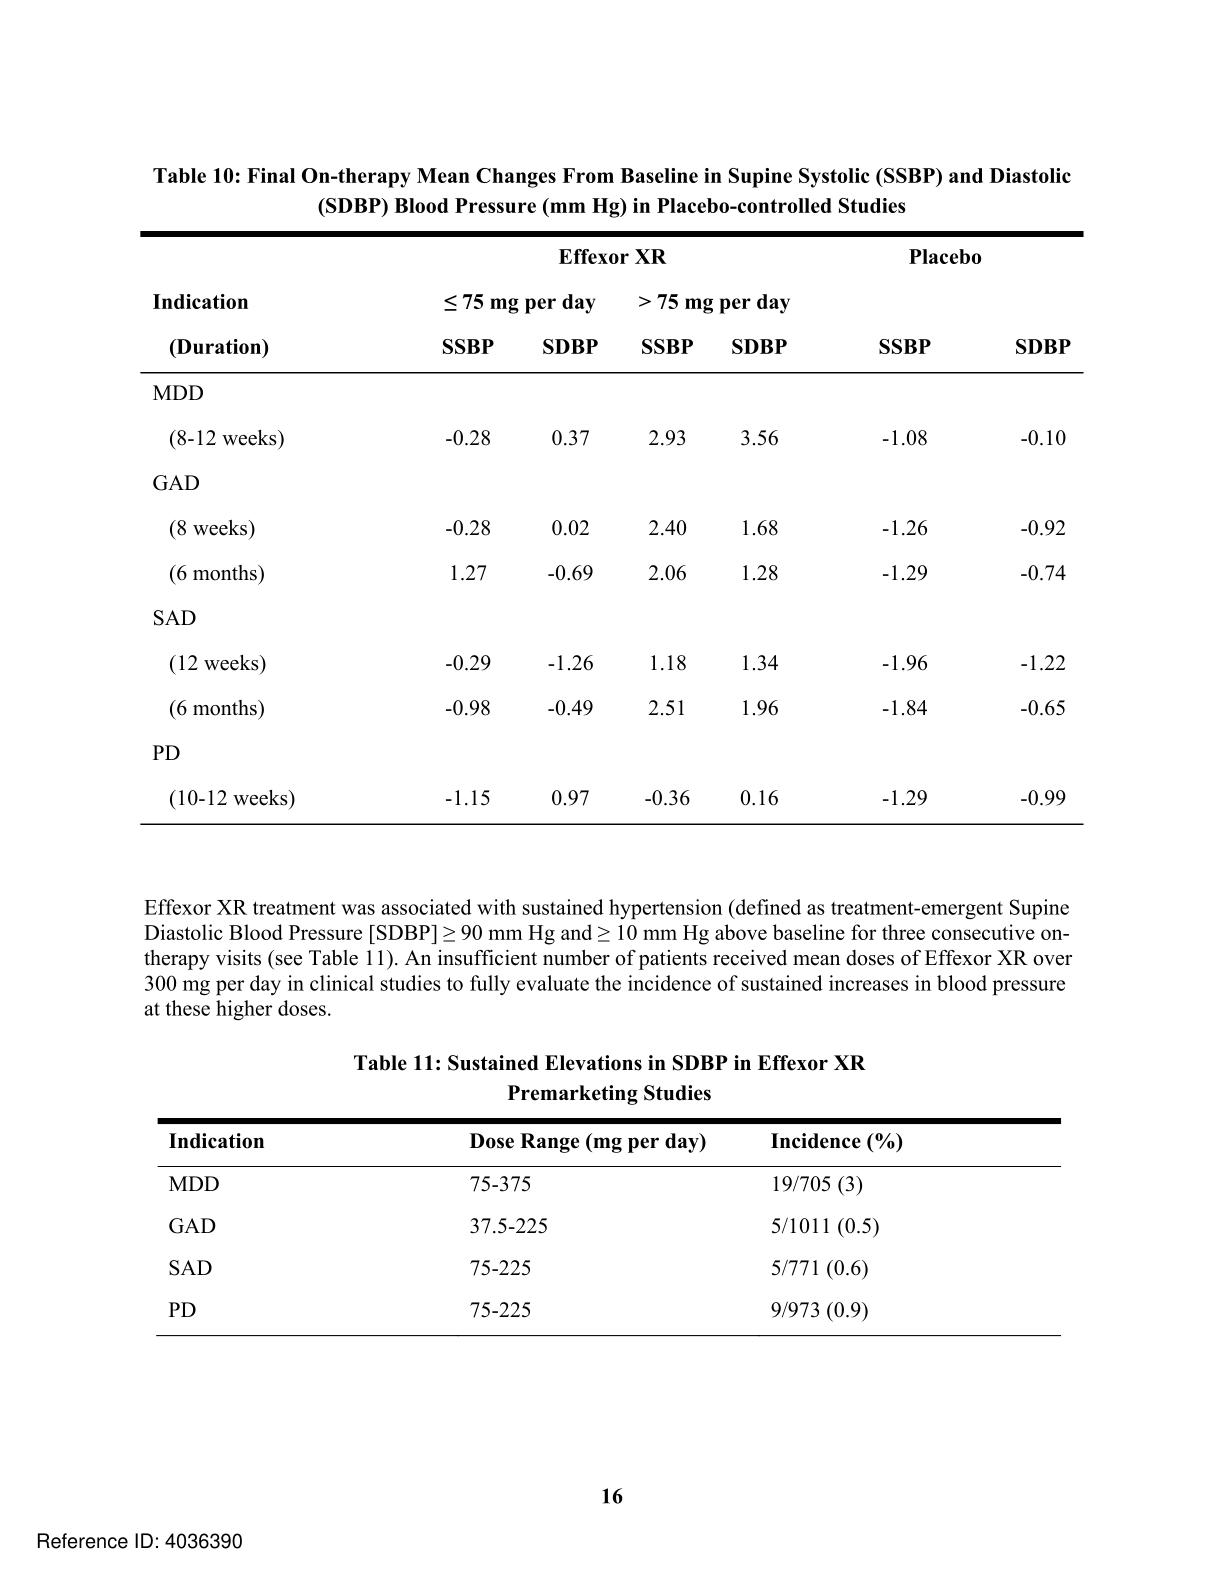partial_lined: (152, 1112, 1068, 1345)
partial_lined_merged_cells: (138, 228, 1094, 831)
